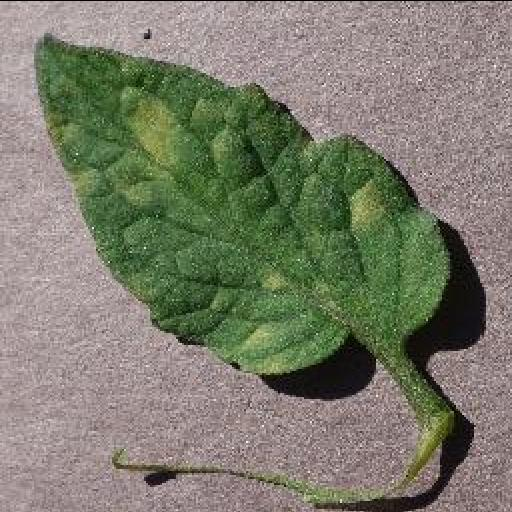disease_tomato: (35, 33, 449, 378)
